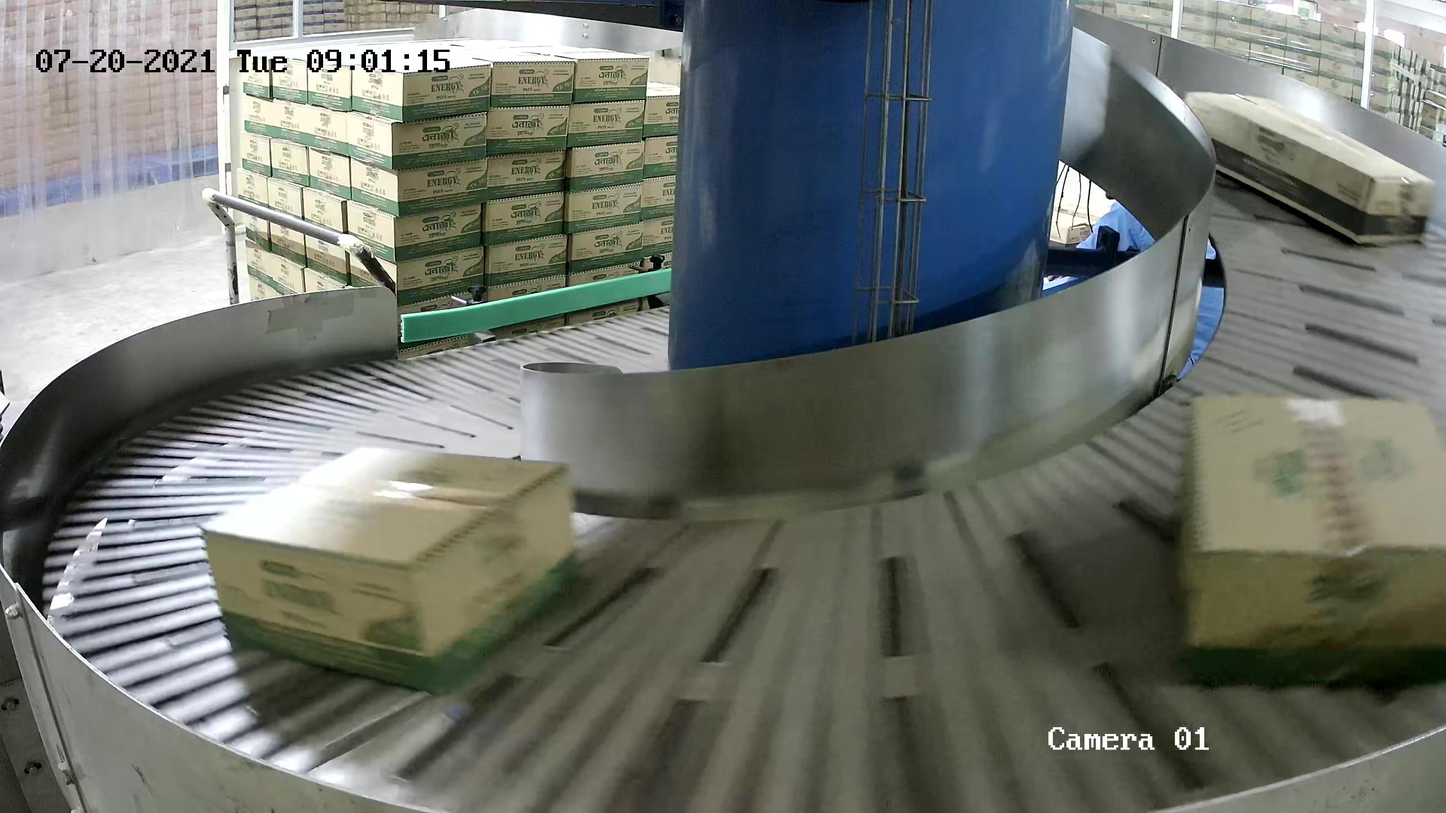Box: (201, 444, 581, 696), (1177, 388, 1446, 692), (1177, 89, 1439, 246)
